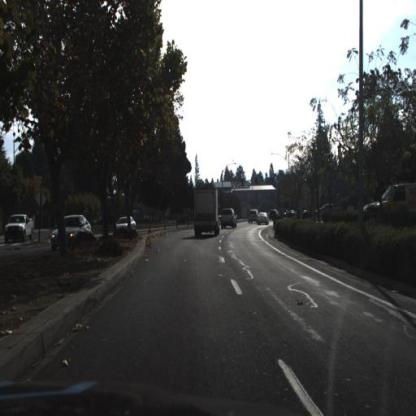car: (193, 185, 226, 241), (52, 216, 93, 253), (359, 186, 394, 221), (6, 215, 35, 244), (114, 215, 137, 236), (221, 208, 239, 231), (247, 209, 263, 225), (259, 207, 272, 226), (257, 213, 271, 227)
truck: (193, 186, 221, 239)
